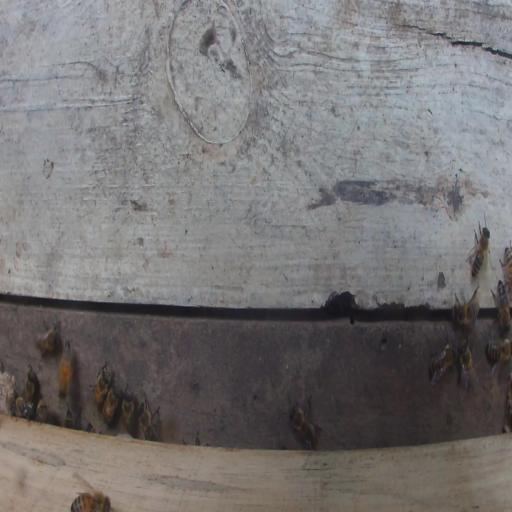bee: (428, 342, 458, 385), (288, 405, 317, 446), (471, 220, 490, 279), (460, 340, 478, 398), (137, 402, 161, 442), (58, 339, 73, 400), (70, 490, 112, 511), (36, 320, 61, 355), (449, 300, 481, 327), (498, 279, 512, 334), (103, 383, 120, 425), (484, 339, 512, 364), (93, 369, 110, 410), (121, 388, 134, 434), (10, 396, 34, 417), (503, 245, 512, 290), (23, 369, 36, 400), (37, 400, 48, 422), (64, 408, 75, 430)
